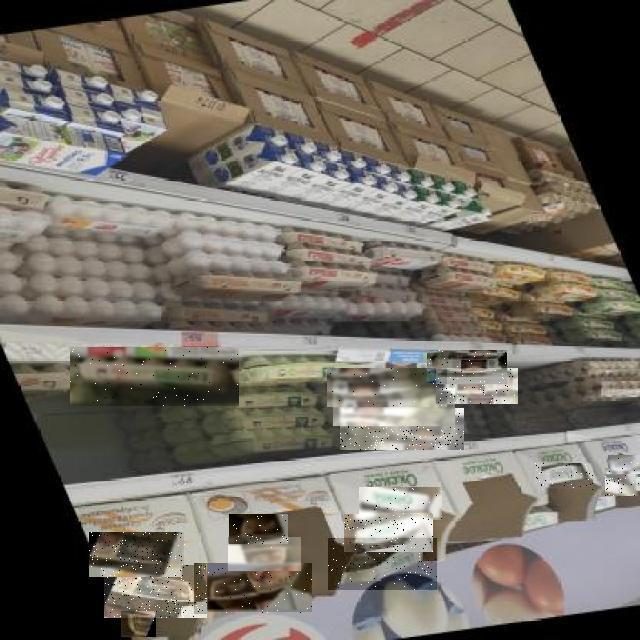Eggs: (70, 348, 239, 408), (194, 564, 312, 614), (328, 538, 437, 590), (104, 565, 207, 618), (341, 408, 465, 450), (327, 368, 447, 407), (333, 388, 455, 426), (90, 532, 186, 577), (344, 514, 433, 552), (437, 368, 519, 404), (360, 488, 444, 522), (427, 351, 507, 385), (228, 537, 301, 571), (229, 514, 288, 544), (535, 464, 593, 492), (606, 469, 640, 497), (121, 611, 156, 637), (608, 455, 640, 474)
